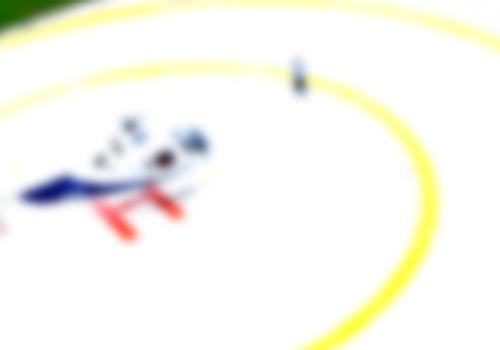Apron: (1, 52, 447, 350)
